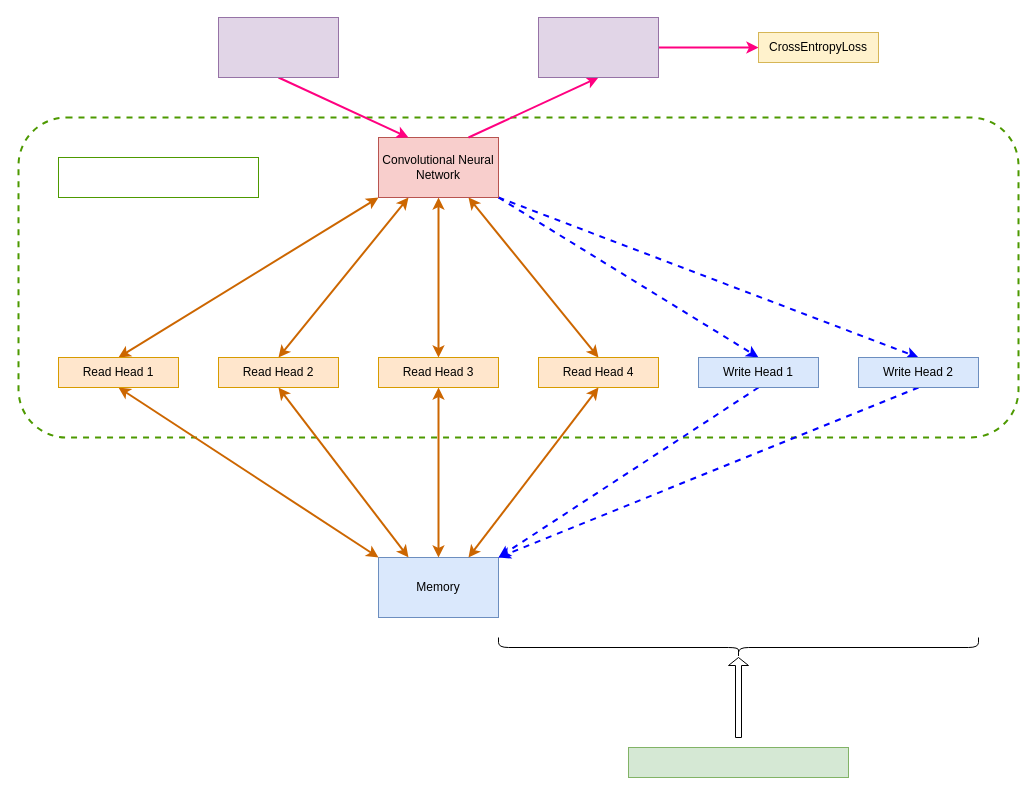
Some shapes in this 1036 by 795 pixel diagram are drawn without their labels. The shapes that lost their labels are listed below. From the top down, each one's box as (x1, y1, x2, y2) in pixels, then its label:
(218, 16, 338, 78): Inputs
(538, 16, 658, 78): Outputs
(58, 156, 258, 198): CONTROLLER
(628, 746, 848, 778): Controlled using the "no_write" option
